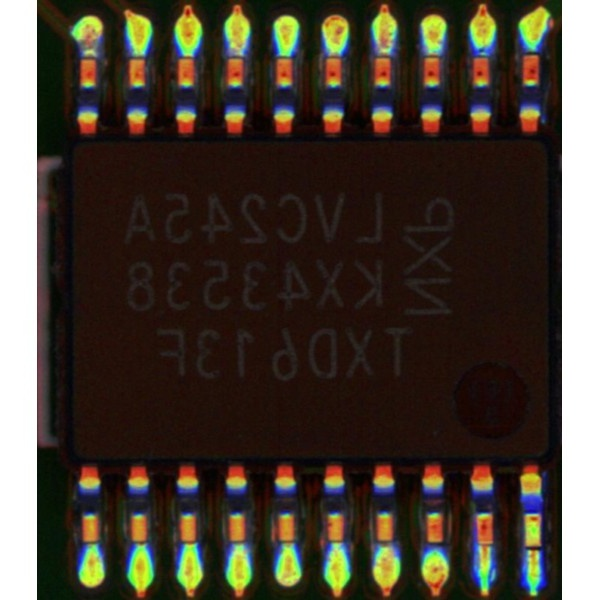Bad_podu: (527, 539, 540, 564), (479, 539, 491, 560)
